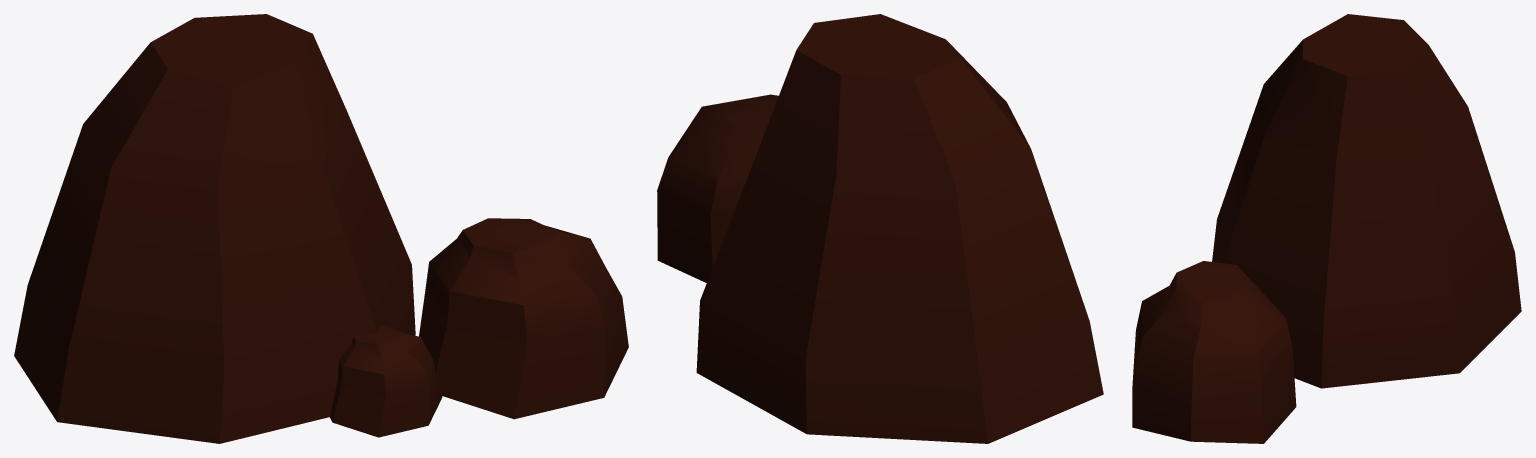
The model's file is Piedra4.fbx.
3 views of the same model, side by side, from view 1: azimuth 30°, elevation 25°; view 2: azimuth 150°, elevation 25°; view 3: azimuth 270°, elevation 25° (orthographic). The views are drawn at different scales.
Parts seen in each view (by area): view 1: Mesh; view 2: Mesh; view 3: Mesh.
Boxes of the visible parts, box(x1,y1,x2,y2) form: Mesh: box(14, 14, 628, 443); Mesh: box(657, 14, 1103, 443); Mesh: box(1132, 14, 1521, 443).
Bounding box in the file's own units: 339 × 210 × 260.
